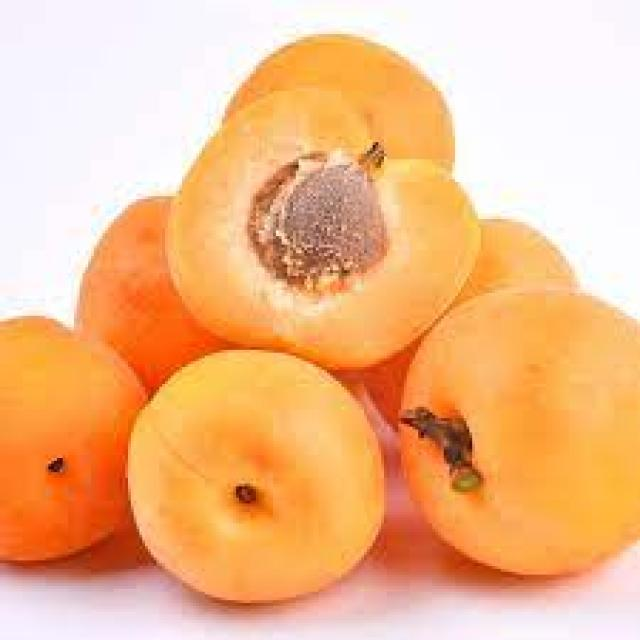Cekirdek: (247, 142, 384, 290)
Kayisi: (401, 284, 637, 572)
